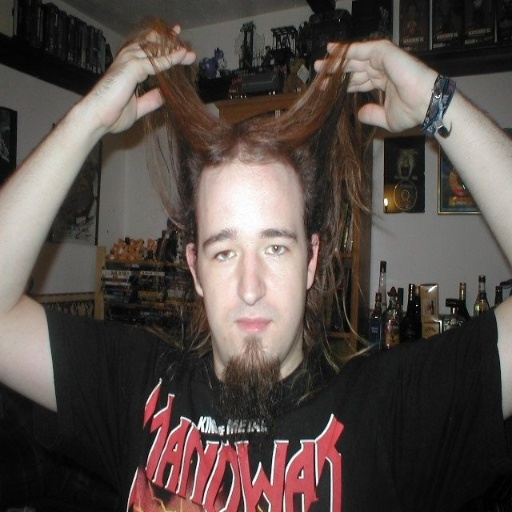hand: (83, 22, 197, 134), (334, 28, 445, 137)
